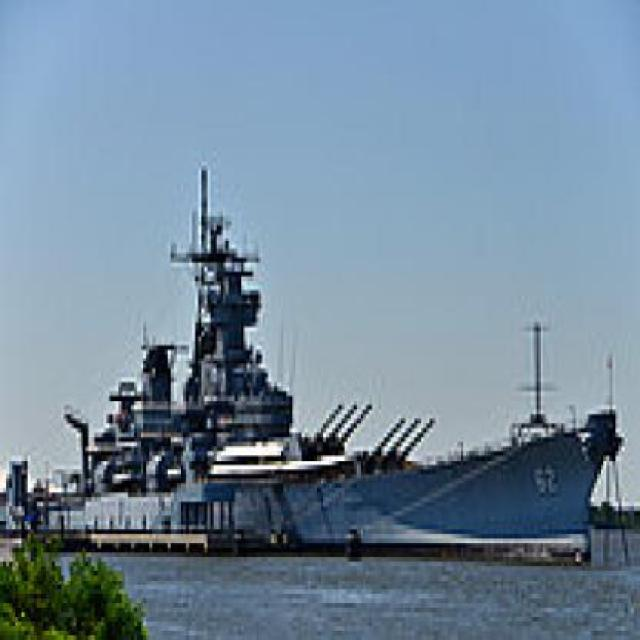warship2: (31, 153, 629, 577)
